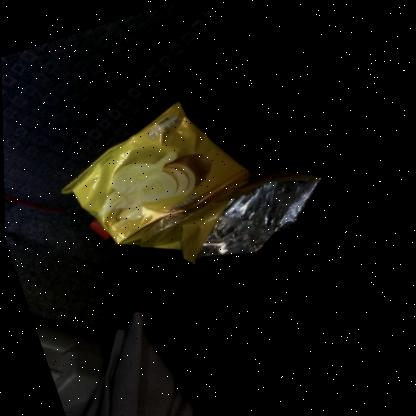Plastic: (60, 101, 322, 264)
